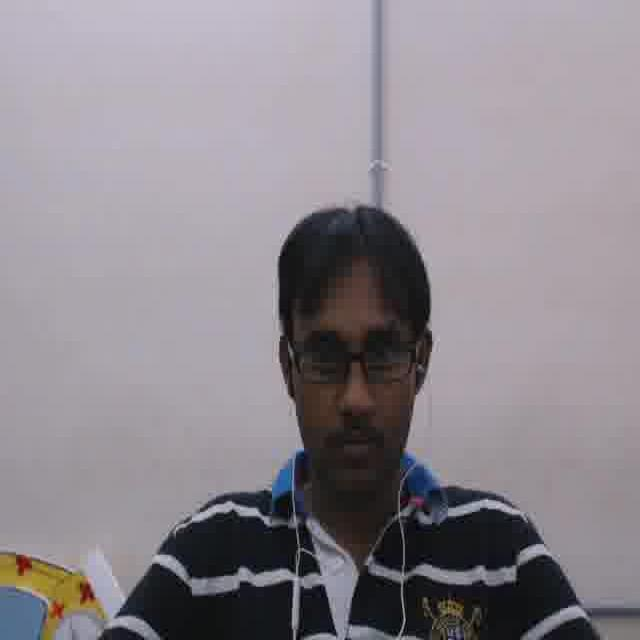Engaged: (293, 276, 415, 491)
